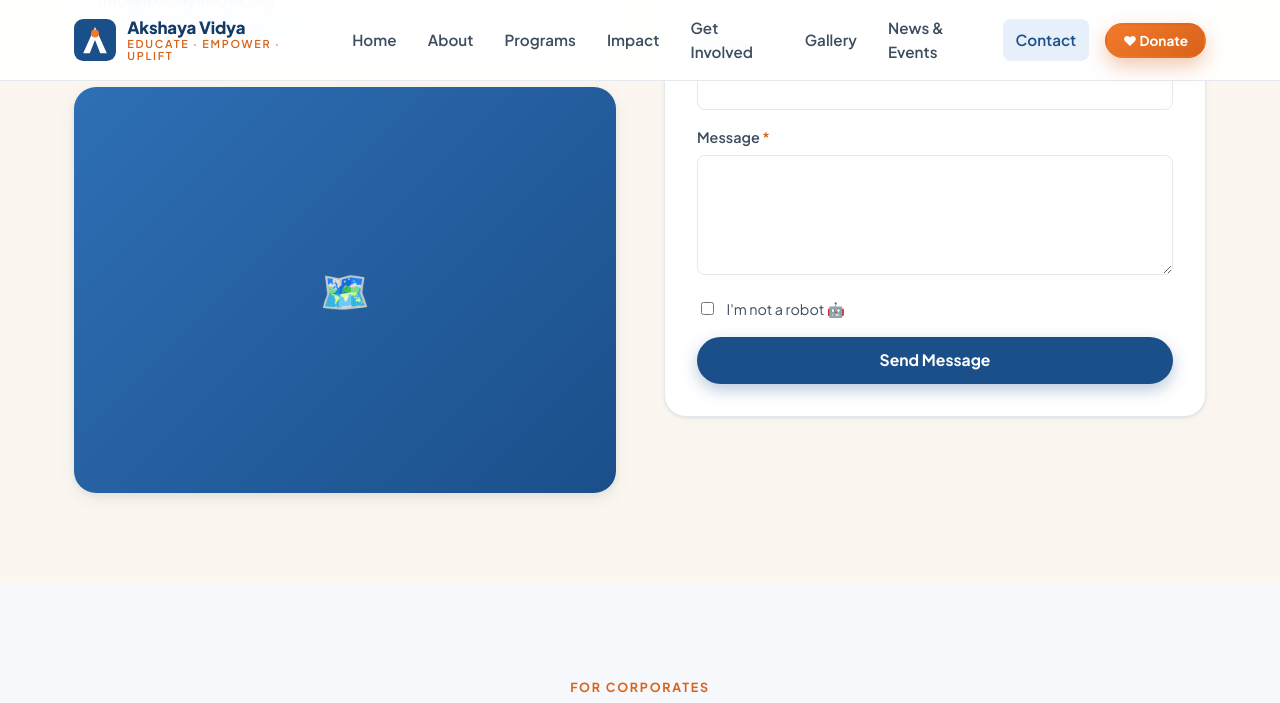
Scenario: Contact page › validates the general inquiry form (CON-01)
The image size is (1280, 703).
(page scrolled)
What coordinates should you click on to do the following:
click the button "Send Message"
I would click on:
 (935, 360)
Its box is [697,337,1173,384].
(page scrolled)
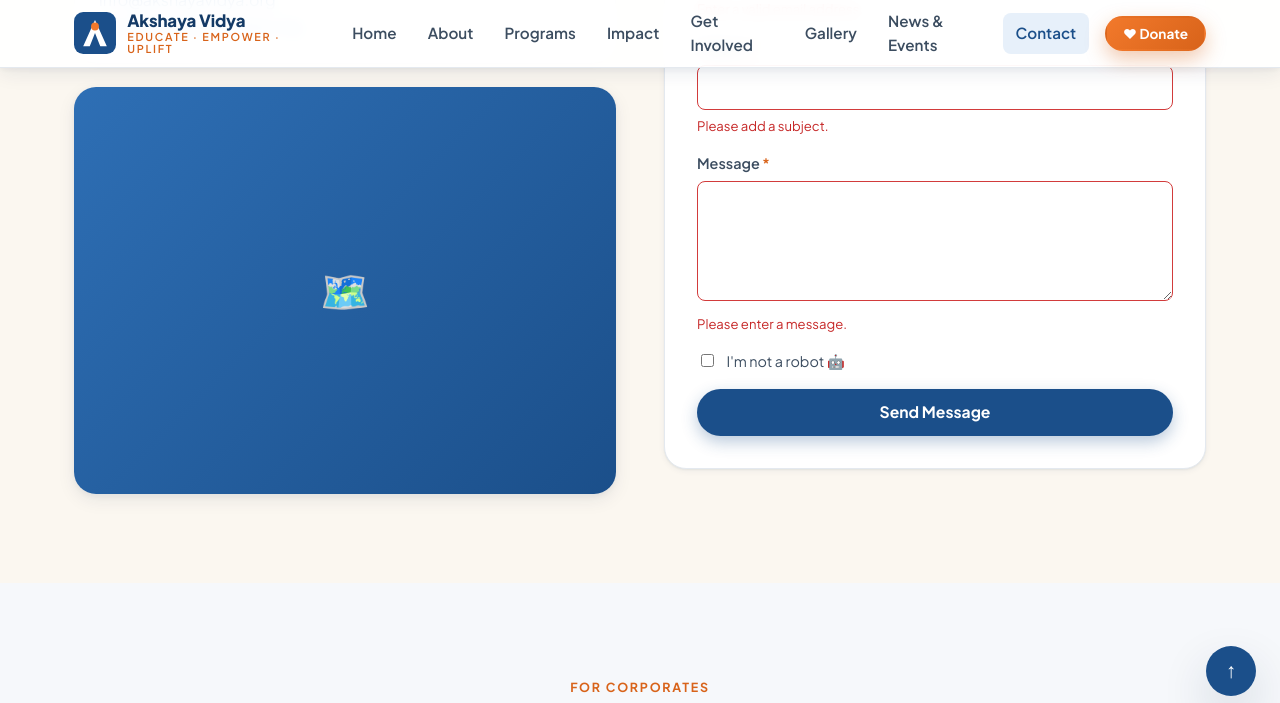
Now the text "Please add a subject." is shown, box [697,117,828,134]
